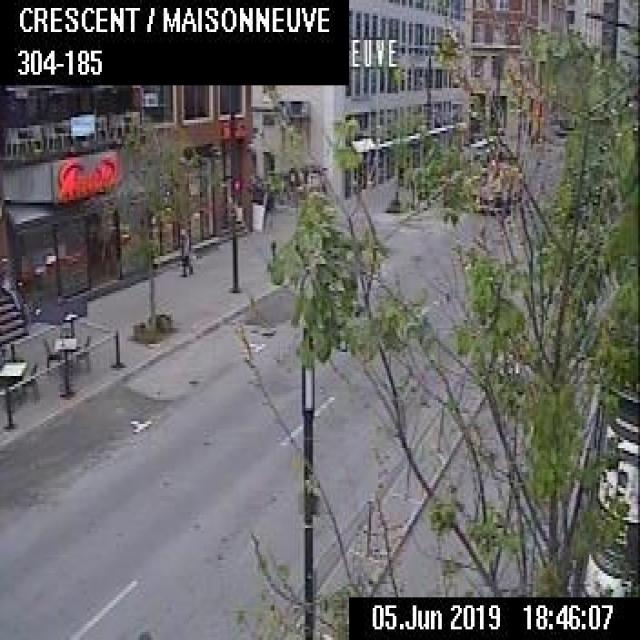pedestrian: (178, 224, 192, 274)
vehicle: (473, 174, 510, 214), (491, 162, 523, 198)
